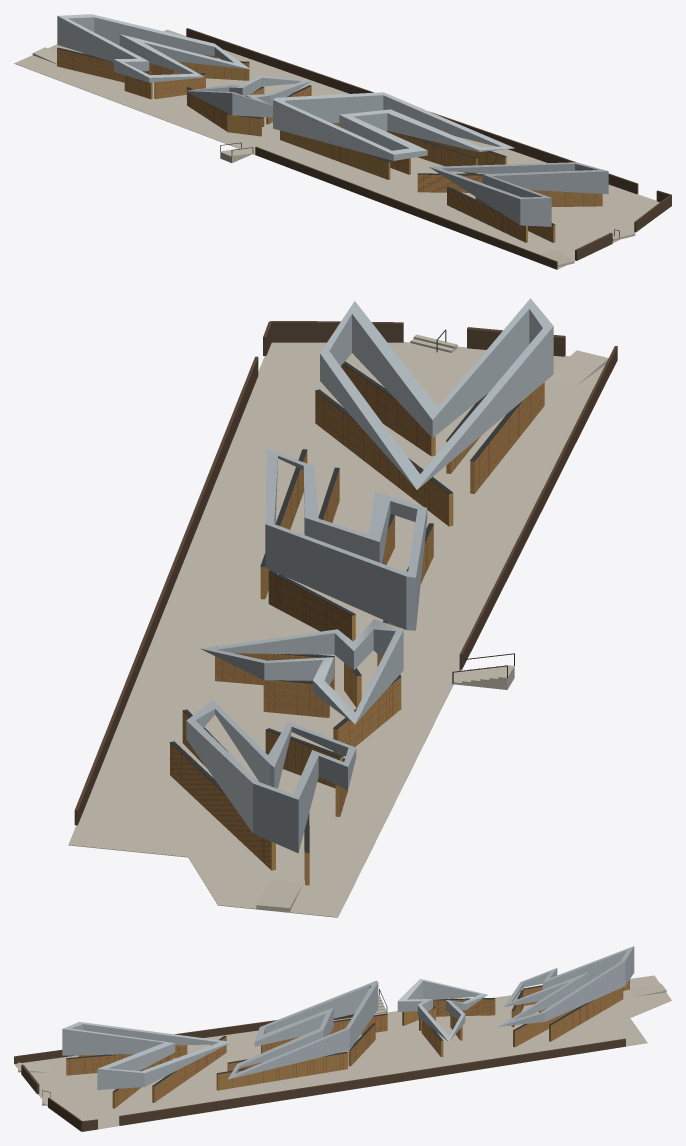
File: holocaust-namenmonument.glb
3 renders of one model, top to bottom at view 1: azimuth 30°, elevation 25°; view 2: azimuth 150°, elevation 25°; view 3: azimuth 270°, elevation 25°, orthographic. The views are drawn at different scales.
Visible parts, largest first — view 1: holocaust-namenmonument; view 2: holocaust-namenmonument; view 3: holocaust-namenmonument.
Part boxes in pixels (x1,y1,x2,y2): holocaust-namenmonument: (14,14,671,269); holocaust-namenmonument: (68,298,617,917); holocaust-namenmonument: (14,946,671,1131).
Size of the model in its own units: 50.03 by 6.6 by 88.88.
